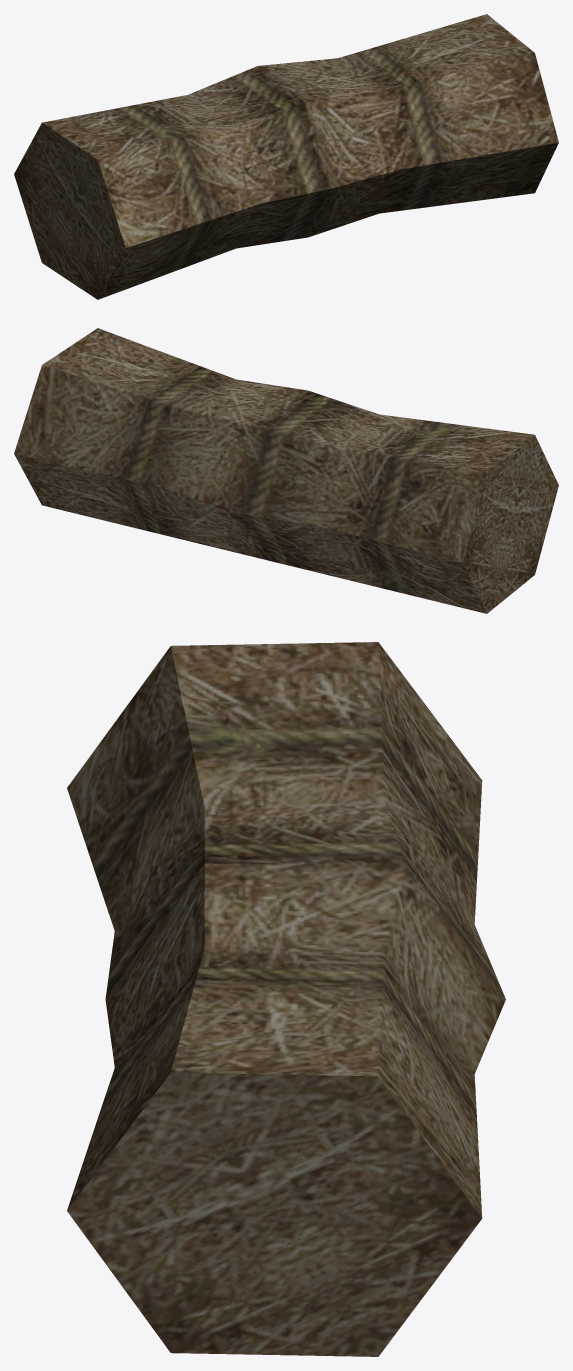
The model's file is s7_fightpve_maoduo.FBX.
The picture shows the model from 3 angles, top to bottom: view 1: azimuth 30°, elevation 25°; view 2: azimuth 150°, elevation 25°; view 3: azimuth 270°, elevation 25°; orthographic projection. The views are drawn at different scales.
Parts seen in each view (by area): view 1: Object03; view 2: Object03; view 3: Object03.
Part boxes in pixels (x1,y1,x2,y2): Object03: (14,14,558,299); Object03: (14,328,558,613); Object03: (67,642,505,1356).
Bounding box in the file's own units: 2.18 × 0.6517 × 0.9244.
